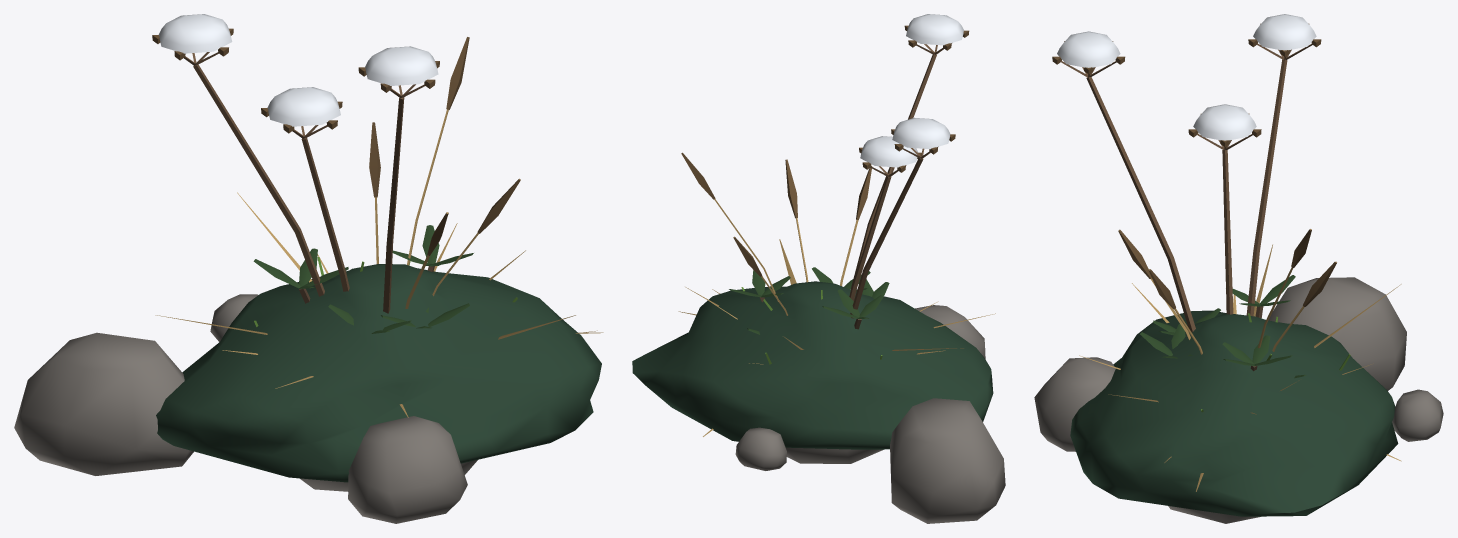
File: alpine-flora.glb
The picture shows the model from 3 angles, left to right: view 1: azimuth 30°, elevation 25°; view 2: azimuth 150°, elevation 25°; view 3: azimuth 270°, elevation 25°; orthographic projection. The views are drawn at different scales.
Parts seen in each view (by area): view 1: flora_juniper, flora_stones, flora_umbels, flora_seedGrass, flora_alpenrose, flora_grassTuft; view 2: flora_juniper, flora_stones, flora_umbels, flora_seedGrass, flora_alpenrose, flora_grassTuft; view 3: flora_juniper, flora_stones, flora_umbels, flora_seedGrass, flora_alpenrose, flora_grassTuft.
Boxes of the visible parts, left/top/right/bottom form: flora_juniper: left=156, top=264, right=601, bottom=482; flora_stones: left=14, top=294, right=477, bottom=523; flora_umbels: left=152, top=14, right=439, bottom=313; flora_seedGrass: left=155, top=37, right=597, bottom=417; flora_alpenrose: left=253, top=225, right=473, bottom=333; flora_grassTuft: left=222, top=212, right=603, bottom=354; flora_juniper: left=632, top=281, right=993, bottom=449; flora_stones: left=735, top=305, right=1005, bottom=523; flora_umbels: left=849, top=14, right=969, bottom=318; flora_seedGrass: left=681, top=152, right=995, bottom=364; flora_alpenrose: left=729, top=267, right=889, bottom=334; flora_grassTuft: left=678, top=166, right=945, bottom=436; flora_juniper: left=1070, top=310, right=1398, bottom=516; flora_stones: left=1034, top=277, right=1443, bottom=523; flora_umbels: left=1052, top=14, right=1321, bottom=332; flora_seedGrass: left=1079, top=229, right=1401, bottom=462; flora_alpenrose: left=1140, top=275, right=1306, bottom=378; flora_grassTuft: left=1108, top=229, right=1401, bottom=491.
Bounding box in the file's own units: 1.13 × 1.08 × 0.9261.
